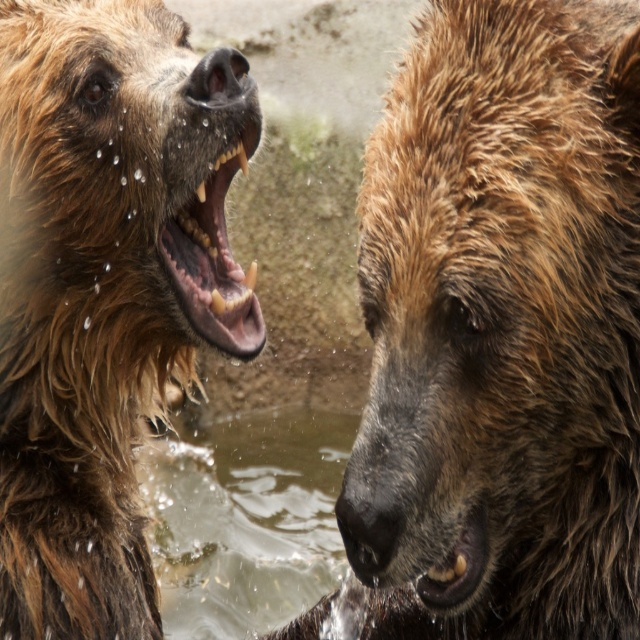Brown bear: (260, 0, 640, 639), (0, 0, 266, 639)
